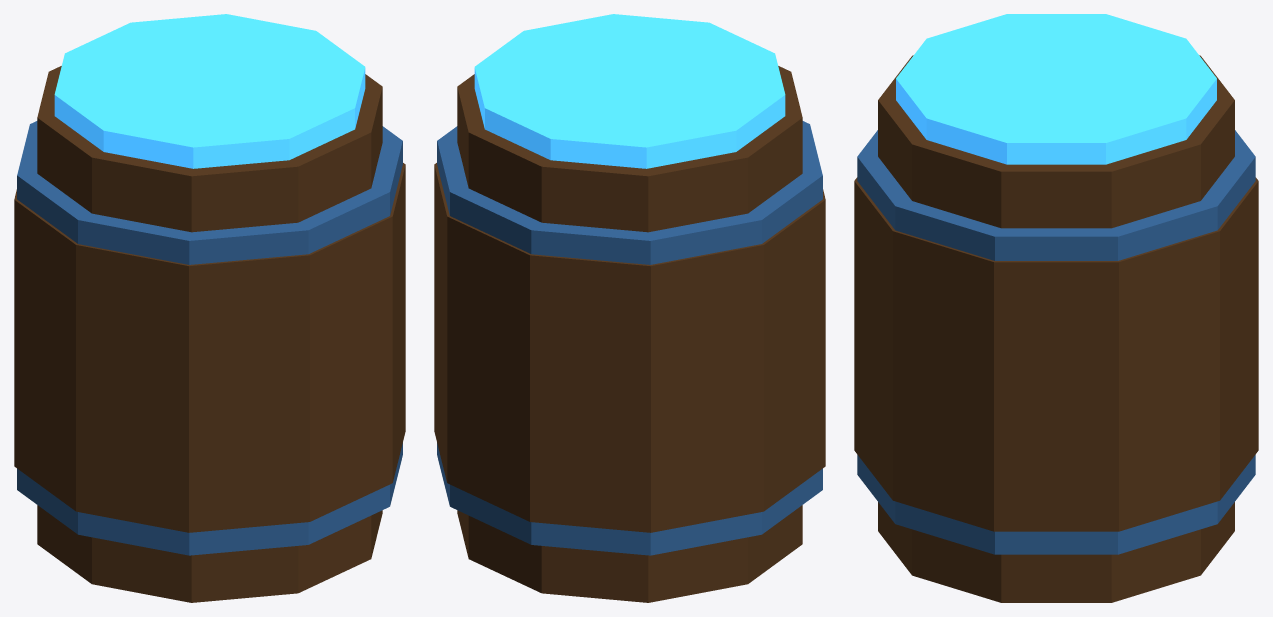
File: barrel_water.glb
The picture shows the model from 3 angles, left to right: view 1: azimuth 30°, elevation 25°; view 2: azimuth 150°, elevation 25°; view 3: azimuth 270°, elevation 25°; orthographic projection.
Parts seen in each view (by area): view 1: belly, stave, top, band0.66, band0.14; view 2: belly, stave, top, band0.66, band0.14; view 3: belly, stave, top, band0.66, band0.14.
Part boxes in pixels (left/top/right/bottom): belly: left=14, top=163, right=405, bottom=532; stave: left=37, top=66, right=382, bottom=602; top: left=54, top=14, right=365, bottom=168; band0.66: left=17, top=121, right=402, bottom=264; band0.14: left=17, top=443, right=402, bottom=555; belly: left=434, top=163, right=825, bottom=532; stave: left=457, top=66, right=802, bottom=602; top: left=474, top=14, right=785, bottom=168; band0.66: left=437, top=121, right=822, bottom=264; band0.14: left=437, top=443, right=822, bottom=555; belly: left=854, top=177, right=1258, bottom=531; stave: left=878, top=55, right=1234, bottom=602; top: left=896, top=14, right=1216, bottom=164; band0.66: left=857, top=130, right=1255, bottom=260; band0.14: left=857, top=455, right=1255, bottom=554.
Bounding box in the file's own units: 0.6467 × 0.84 × 0.68.
